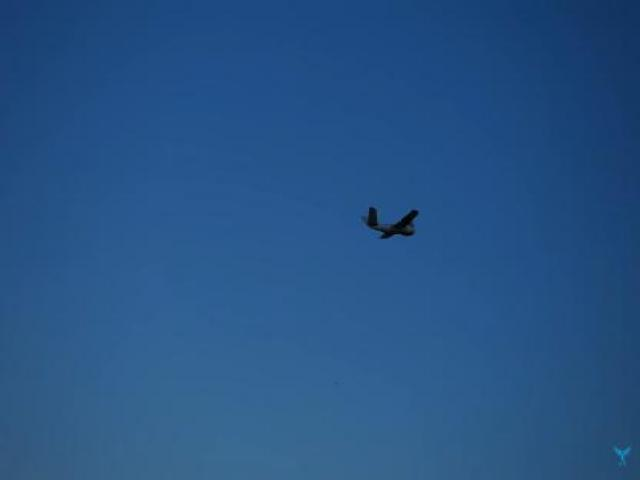uav: (354, 193, 428, 248)
